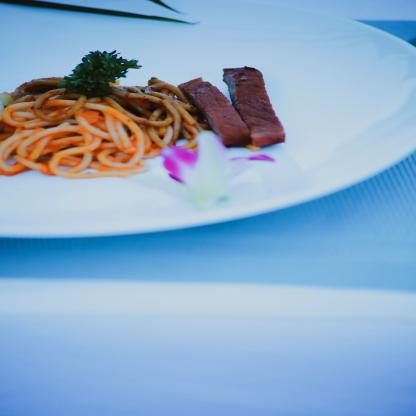Carne: (218, 60, 283, 150), (187, 74, 247, 148)
